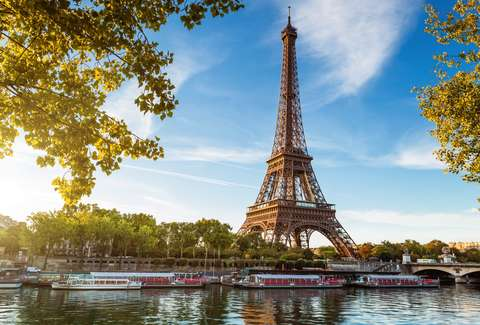eiffel tower: (237, 7, 367, 265)
